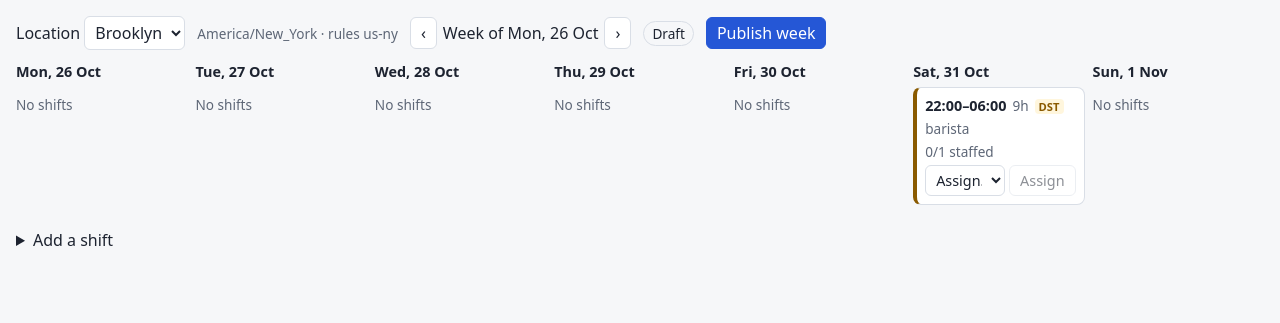
it: ScheduleView › publishes and shows the new version
The width and height of the screenshot is (1280, 323).
What coordinates should you click on to do the following:
click the button "Publish week"
I would click on:
 (766, 33)
Its box is [706,17,826,49].
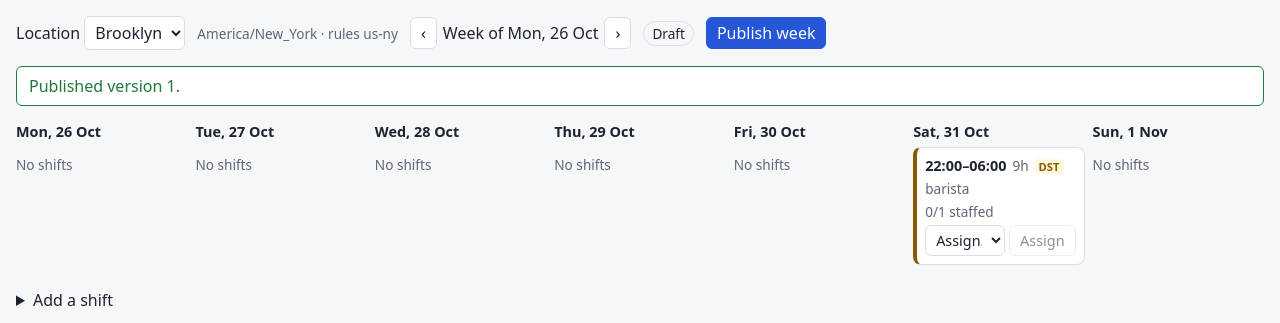
Expected: the message with class "notice" reads "Published version 1.", [29,75,180,97]
